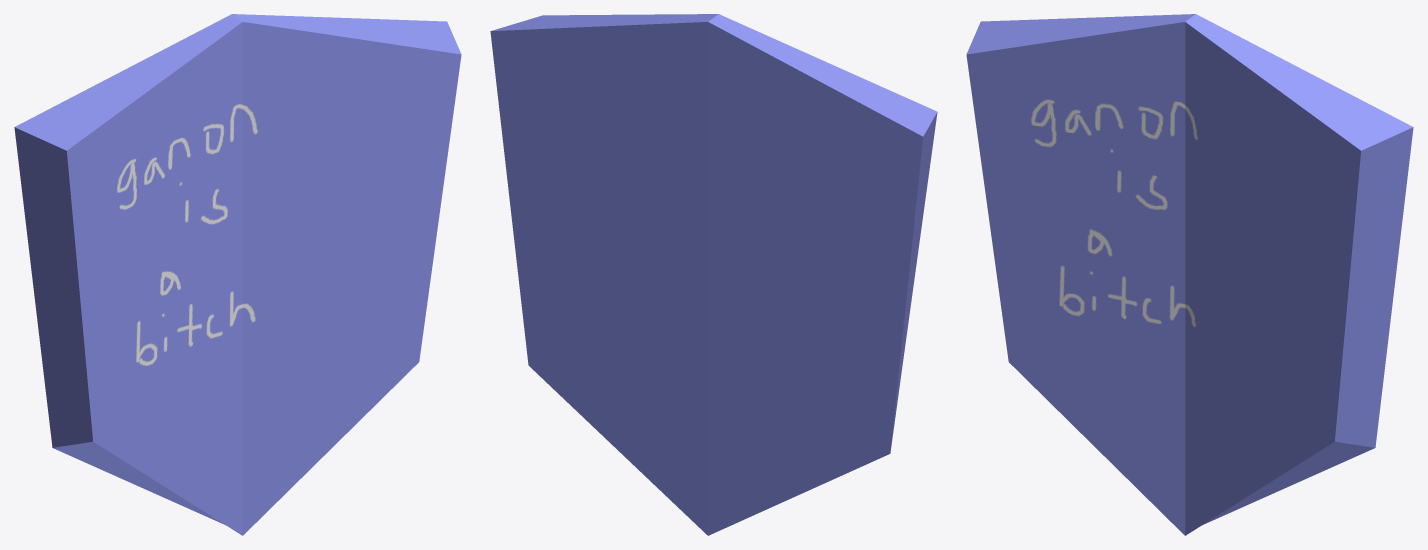
File: ganonisabitch.gltf
3 views of the same model, side by side, from view 1: azimuth 30°, elevation 25°; view 2: azimuth 150°, elevation 25°; view 3: azimuth 330°, elevation 25° (orthographic).
Parts seen in each view (by area): view 1: Cube.001; view 2: Cube.001; view 3: Cube.001.
Part boxes in pixels (box(x1,y1,x2,y2)): Cube.001: box(14, 14, 461, 535); Cube.001: box(490, 14, 937, 535); Cube.001: box(966, 14, 1413, 535).
Size of the model in its own units: 1.76 by 2 by 0.2353.
Materials: 1 (1 with a texture image).
